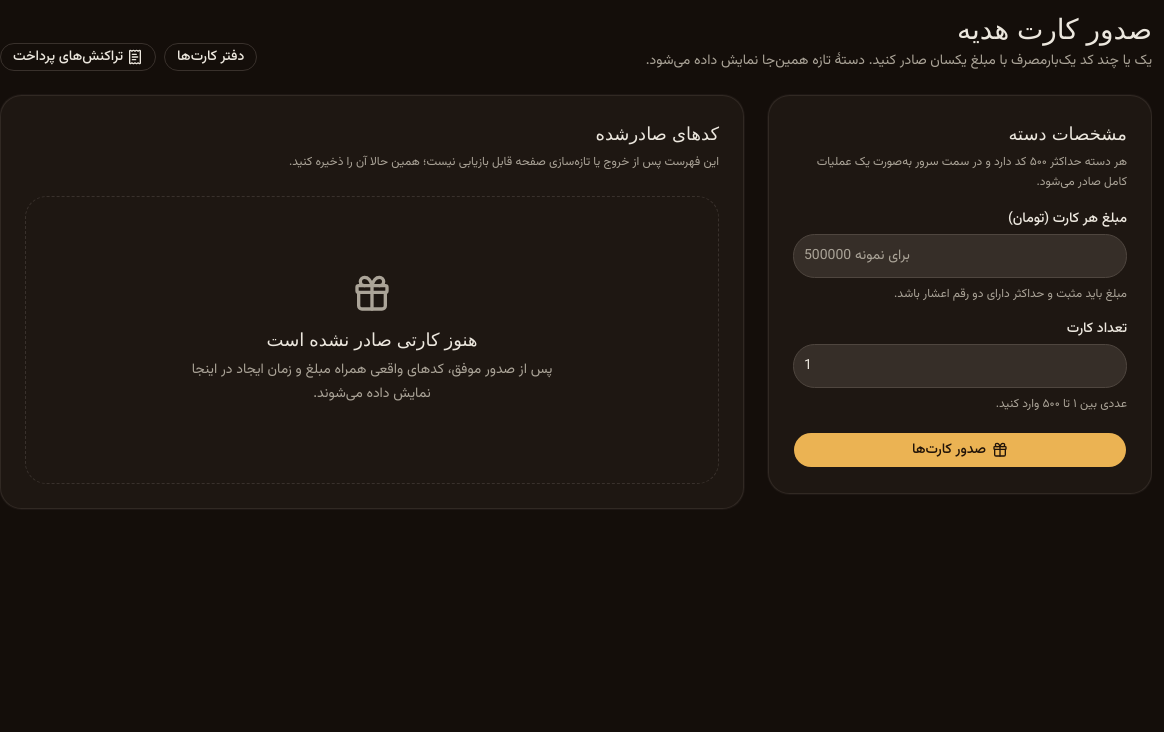
Test case: GiftCardIssuer › connects validation errors and focuses the first invalid field
Type "0" into the field labelled "مبلغ هر کارت (تومان)" at (960, 256), box left=793, top=234, right=1127, bottom=278
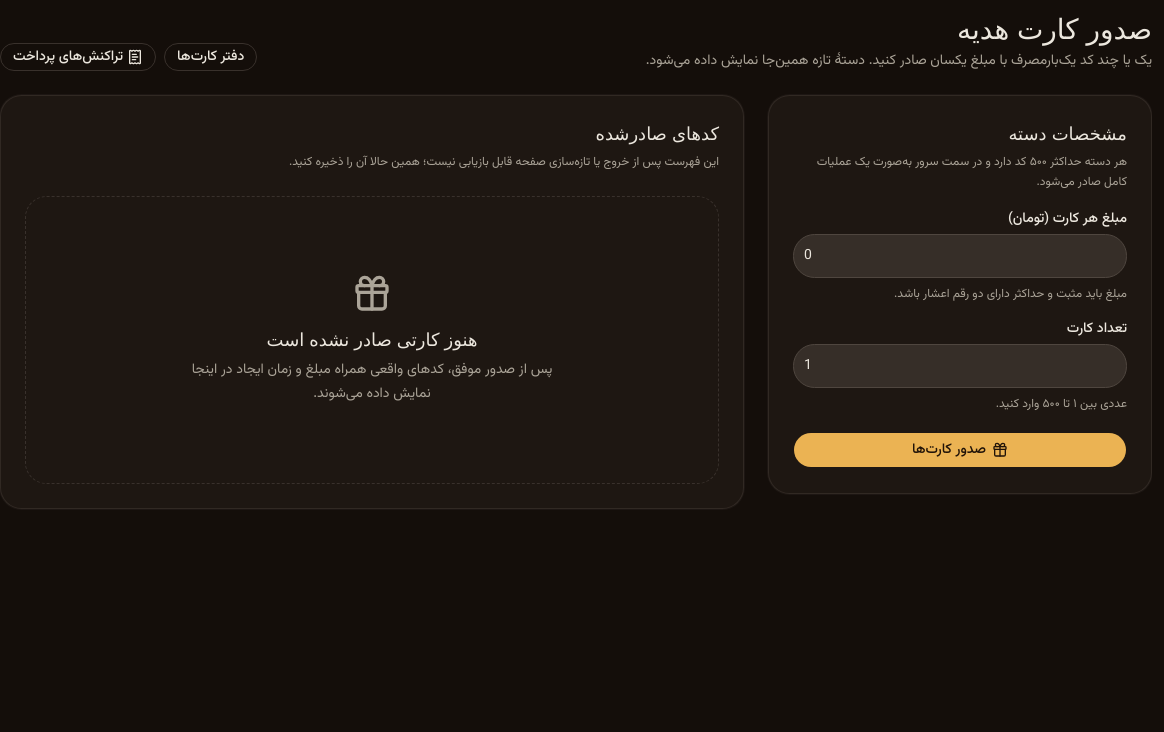
Replace the text in the field labelled "تعداد کارت" with "501" at (960, 366), box left=793, top=344, right=1127, bottom=388
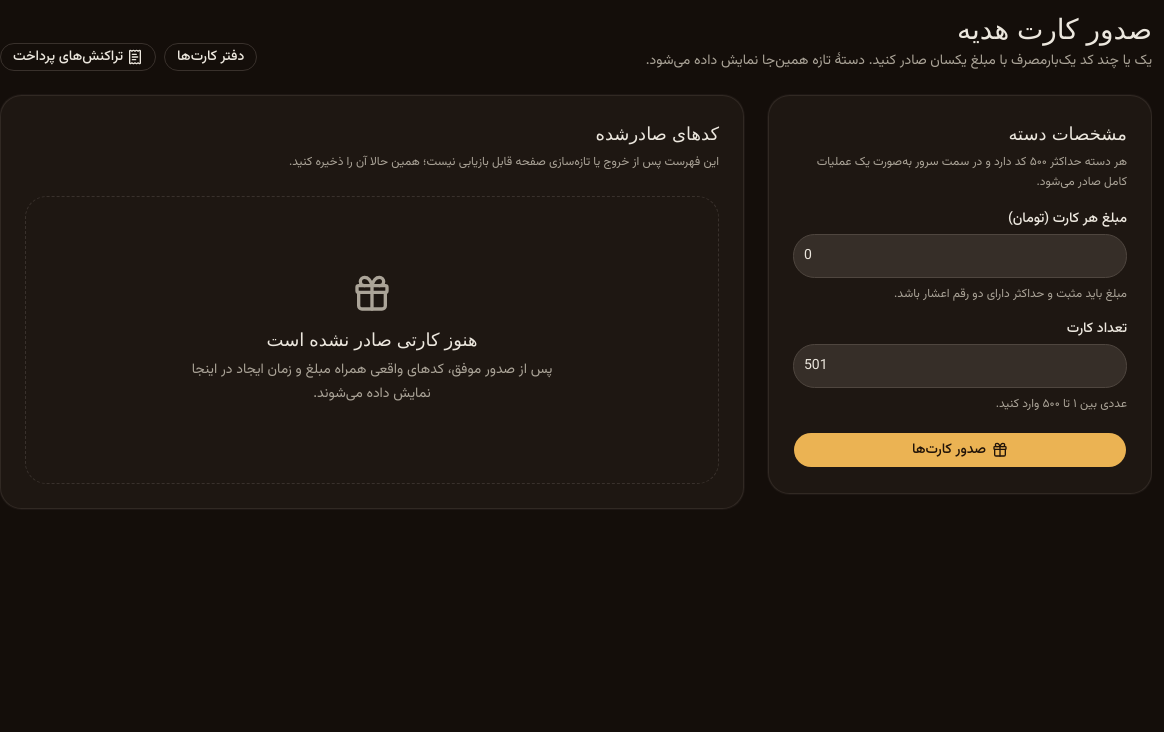
Click the button "صدور کارت‌ها" at (960, 450), box left=793, top=432, right=1127, bottom=468
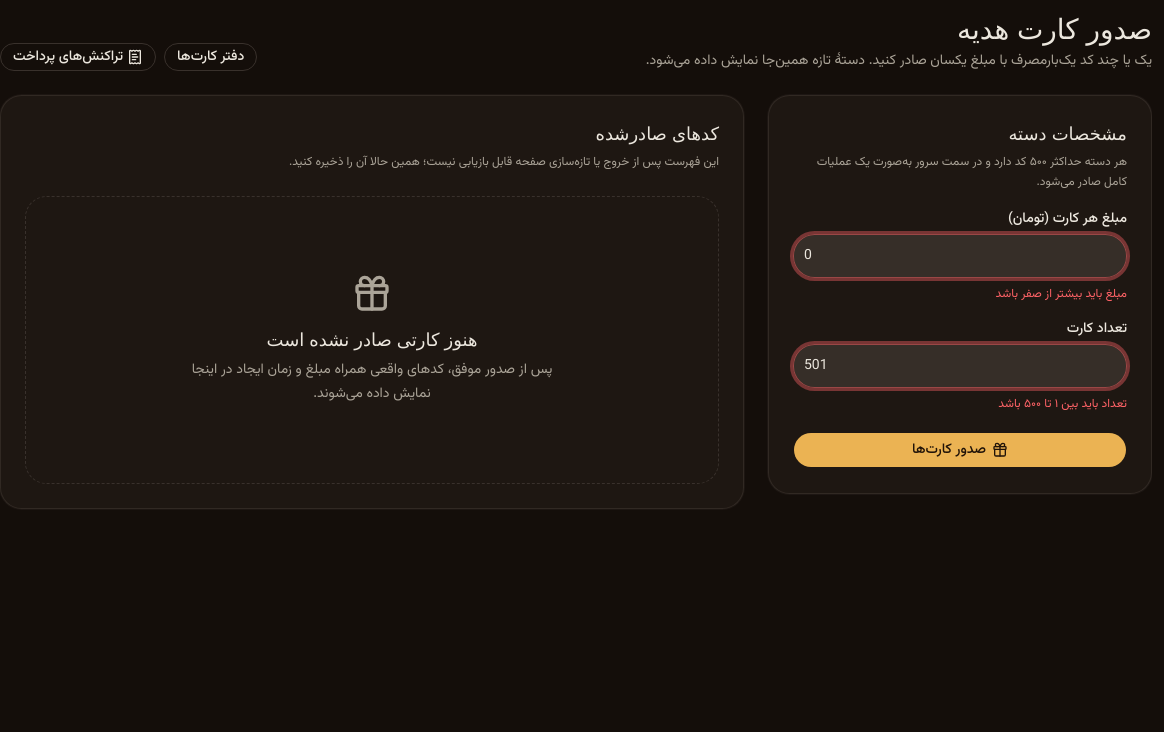
Expected: the text "مبلغ باید بیشتر از صفر باشد" is shown, left=996, top=285, right=1127, bottom=303
Expected: the text "تعداد باید بین ۱ تا ۵۰۰ باشد" is shown, left=998, top=395, right=1127, bottom=413
